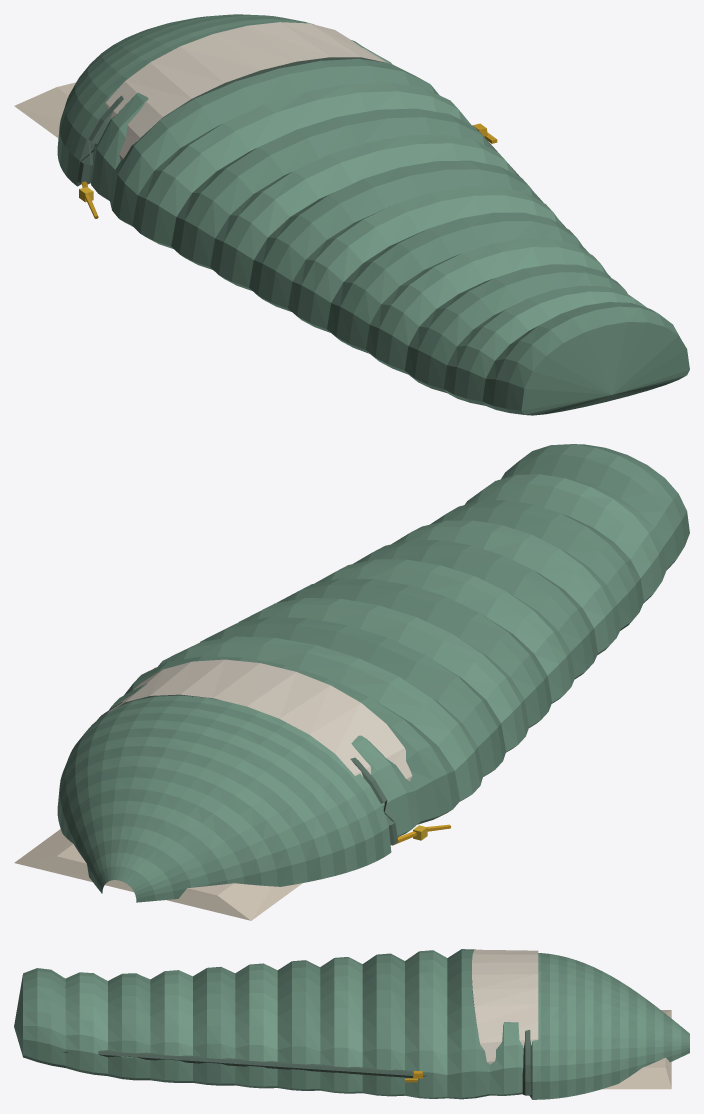
File: sleepbag.glb
The picture shows the model from 3 angles, top to bottom: view 1: azimuth 30°, elevation 25°; view 2: azimuth 150°, elevation 25°; view 3: azimuth 270°, elevation 25°; orthographic projection. The views are drawn at different scales.
Parts seen in each view (by area): view 1: MidPoly_Mummy_SleepingBag_moss_sand; view 2: MidPoly_Mummy_SleepingBag_moss_sand; view 3: MidPoly_Mummy_SleepingBag_moss_sand.
Boxes of the visible parts, box(x1,y1,x2,y2) form: MidPoly_Mummy_SleepingBag_moss_sand: box(14, 14, 689, 415); MidPoly_Mummy_SleepingBag_moss_sand: box(14, 444, 689, 920); MidPoly_Mummy_SleepingBag_moss_sand: box(14, 949, 689, 1099).
Bounding box in the file's own units: 0.9094 × 0.2974 × 2.23.
